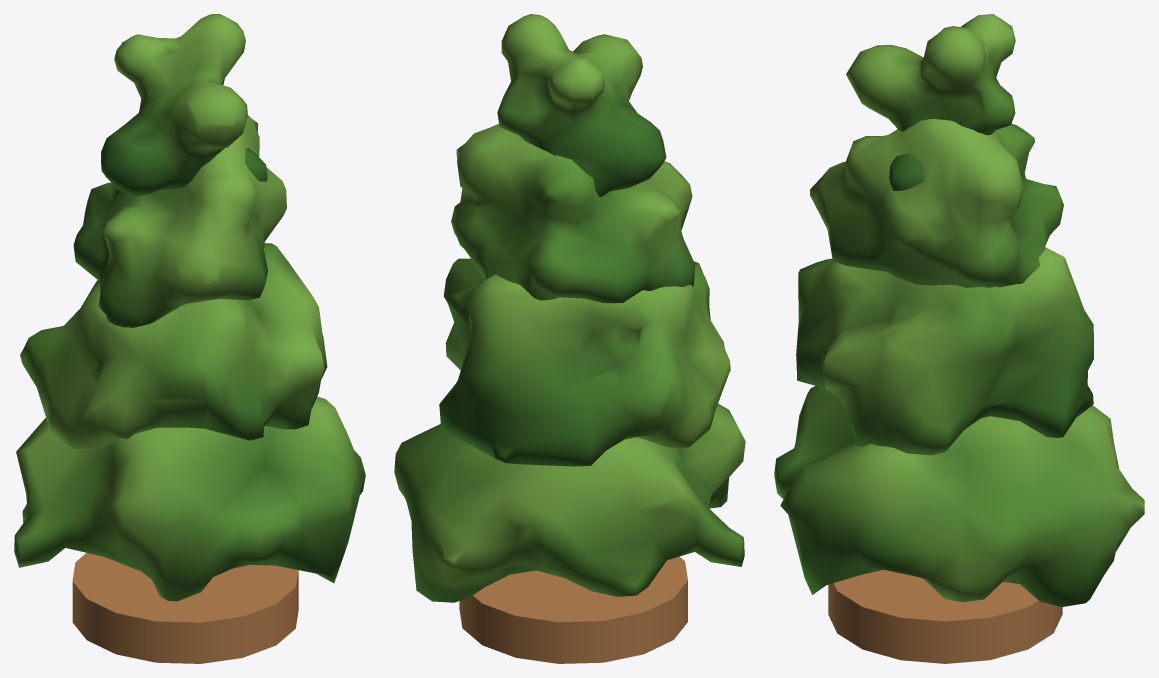
The model's file is topiary_cone.glb.
The picture shows the model from 3 angles, left to right: view 1: azimuth 30°, elevation 25°; view 2: azimuth 150°, elevation 25°; view 3: azimuth 270°, elevation 25°; orthographic projection. The views are drawn at different scales.
Visible parts, largest first — view 1: topiary_cone_foliage, topiary_cone; view 2: topiary_cone_foliage, topiary_cone; view 3: topiary_cone_foliage, topiary_cone.
Part boxes in pixels (x1,y1,x2,y2): topiary_cone_foliage: [14, 14, 365, 601]; topiary_cone: [72, 553, 298, 663]; topiary_cone_foliage: [394, 14, 745, 602]; topiary_cone: [459, 556, 687, 663]; topiary_cone_foliage: [774, 14, 1144, 606]; topiary_cone: [828, 569, 1062, 663].
Size of the model in its own units: 0.9702 by 1.7 by 0.9492.
